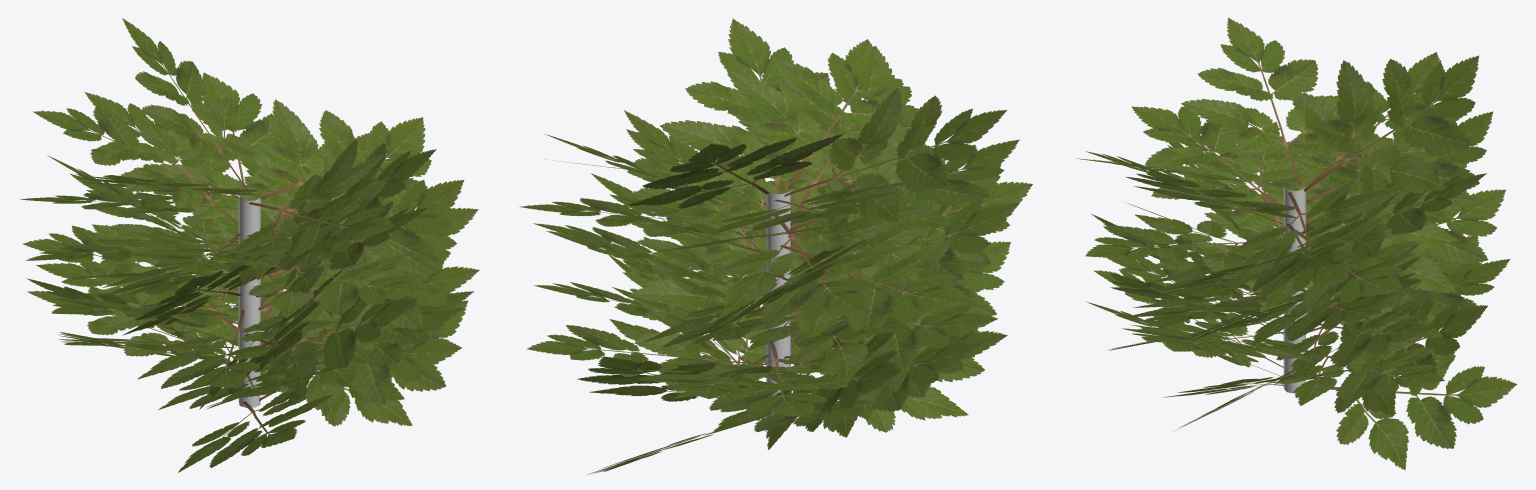
File: Leaves-Low.glb
3 views of the same model, side by side, from view 1: azimuth 30°, elevation 25°; view 2: azimuth 150°, elevation 25°; view 3: azimuth 270°, elevation 25° (orthographic). The views are drawn at different scales.
Visible parts, largest first — view 1: Cylinder.001; view 2: Cylinder.001; view 3: Cylinder.001.
Boxes of the visible parts, left/top/right/bottom form: Cylinder.001: left=20, top=18, right=479, bottom=472; Cylinder.001: left=519, top=18, right=1032, bottom=474; Cylinder.001: left=1075, top=17, right=1517, bottom=469.
Bounding box in the file's own units: 4.1 × 3.48 × 4.06.
Materials: 1 (1 with a texture image).
